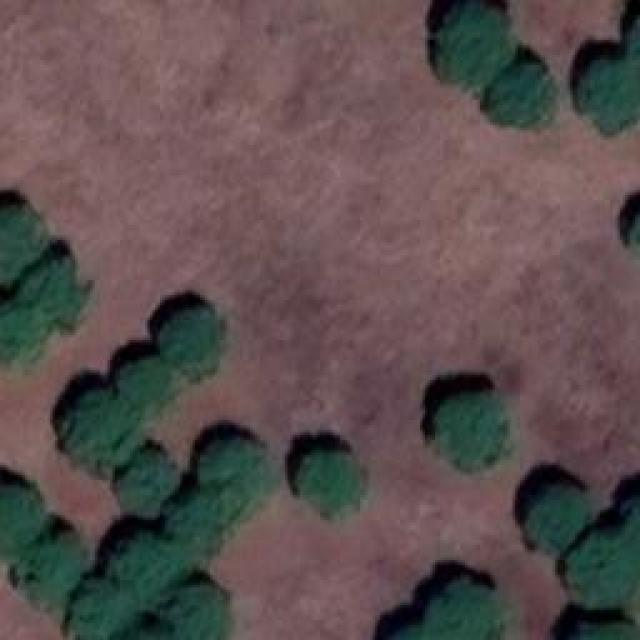Tree: (433, 0, 508, 85), (430, 393, 508, 473), (110, 530, 183, 613), (565, 530, 640, 608), (170, 488, 245, 558), (153, 305, 226, 375), (200, 432, 275, 500), (22, 533, 90, 608), (577, 52, 640, 132), (300, 445, 368, 515), (68, 395, 131, 470), (425, 580, 500, 640), (490, 65, 555, 133), (15, 260, 80, 325), (525, 485, 588, 550), (115, 445, 173, 513), (0, 200, 45, 283), (168, 585, 228, 640), (68, 582, 118, 640), (120, 360, 168, 418), (0, 483, 35, 558), (0, 303, 28, 368), (562, 620, 640, 640), (625, 8, 640, 78)
